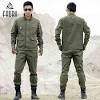uniform: (12, 17, 40, 95), (59, 18, 87, 96)
